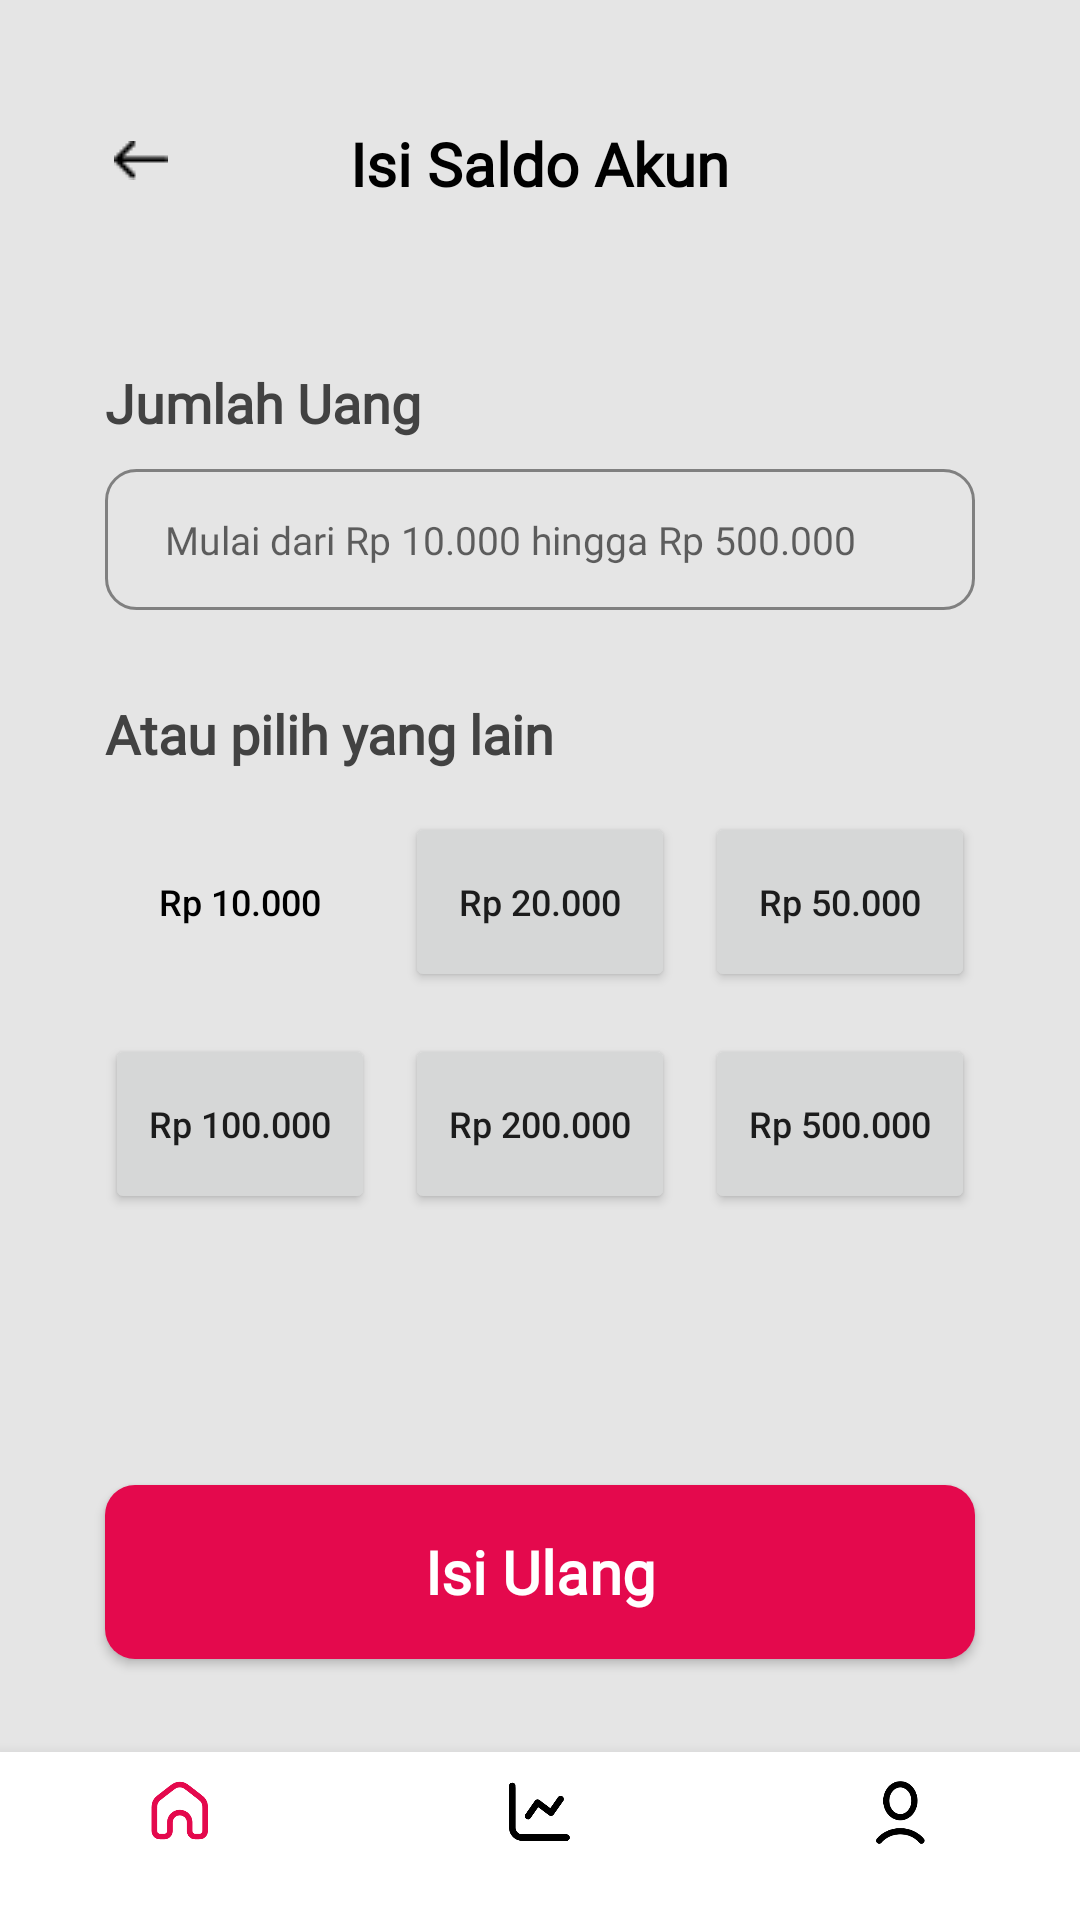

Icon click points for this 1080 × 1920 phone screenshot, format (x,y):
back: (141,160)
